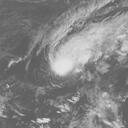cyclone: (48, 18, 119, 76)
